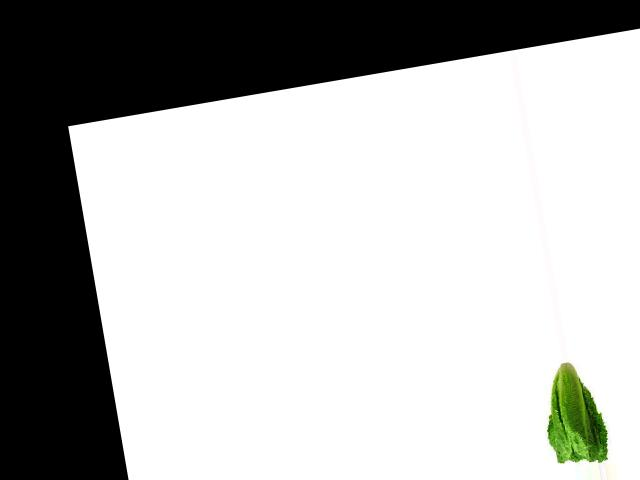lettuce: (529, 358, 614, 471)
